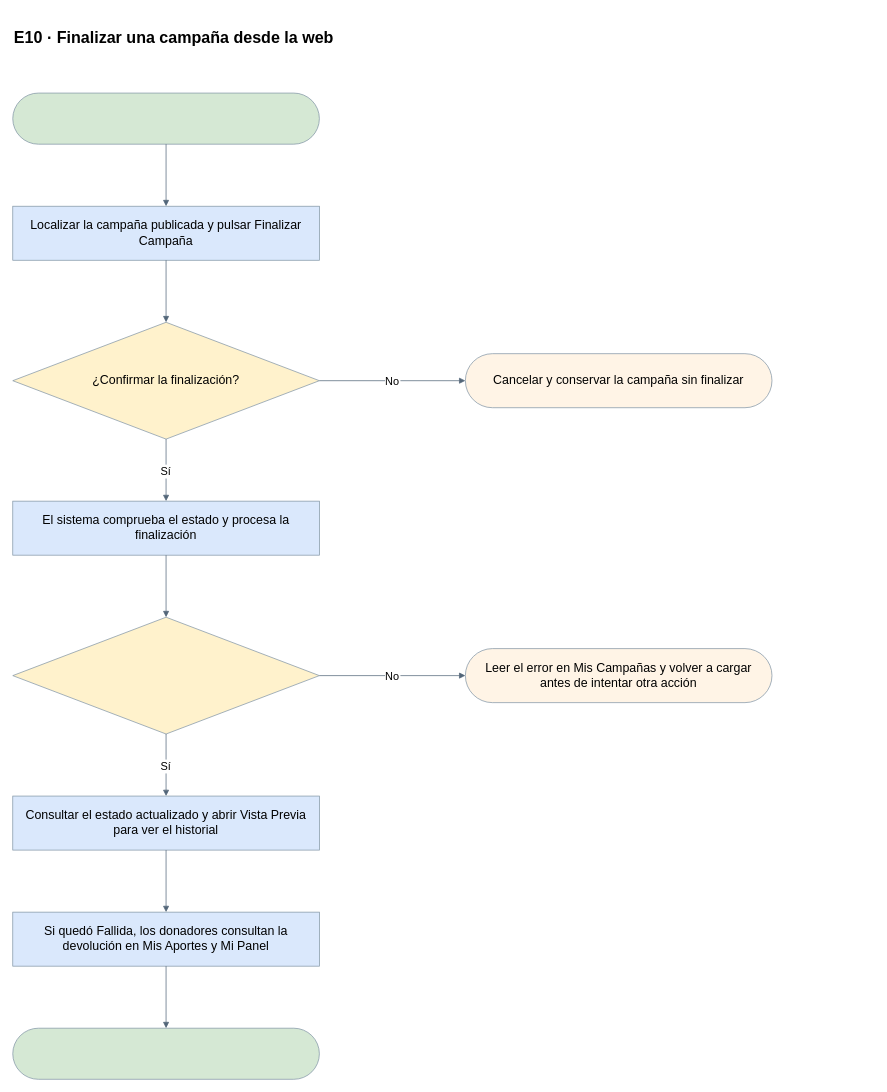
Image size: 887x1092. Some labels were removed from this diagram. The shapes that lost their labels are listed below. From the top down, each one's centre as x and y in pixels, then its label:
At (165,118): "Inicio".
At (165,675): "¿La finalización fue aceptada?".
At (165,1053): "Fin".
